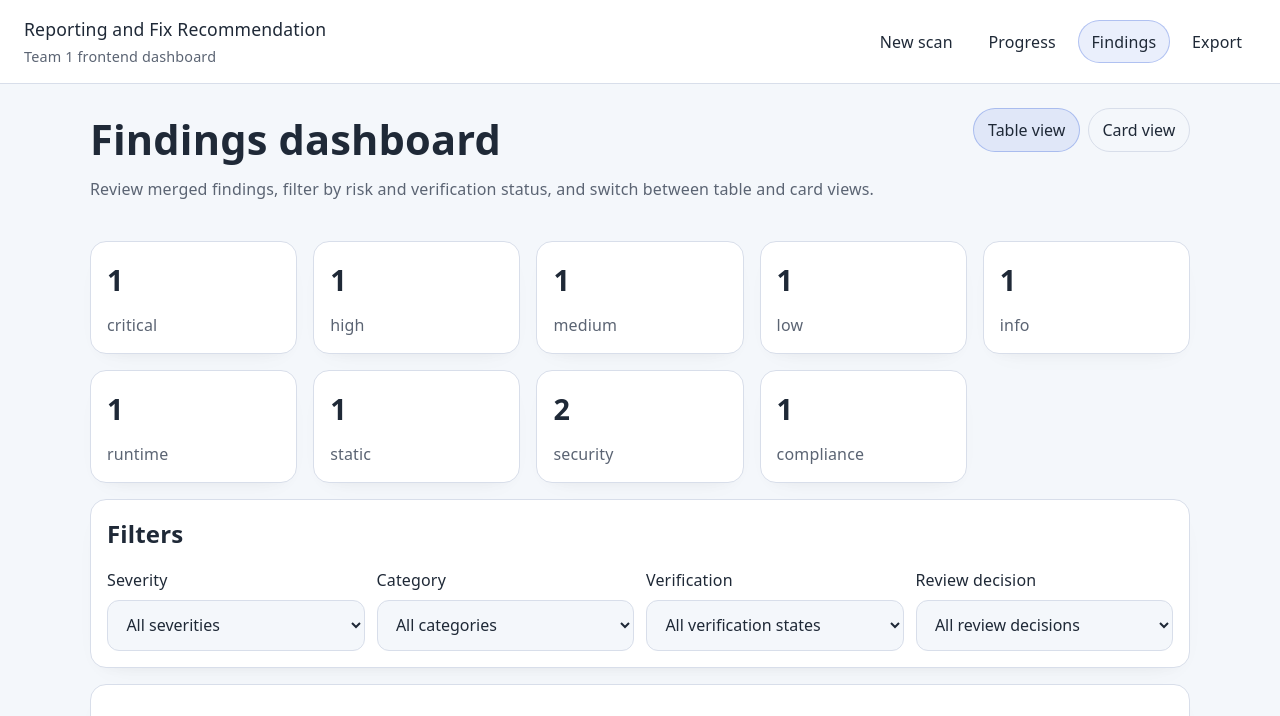
it: FindingsPage › switches between table and card views
What coordinates should you click on to do the following:
click the button "Card view"
I would click on:
 (1139, 130)
Its box is [1088,108,1190,152].
(page scrolled)
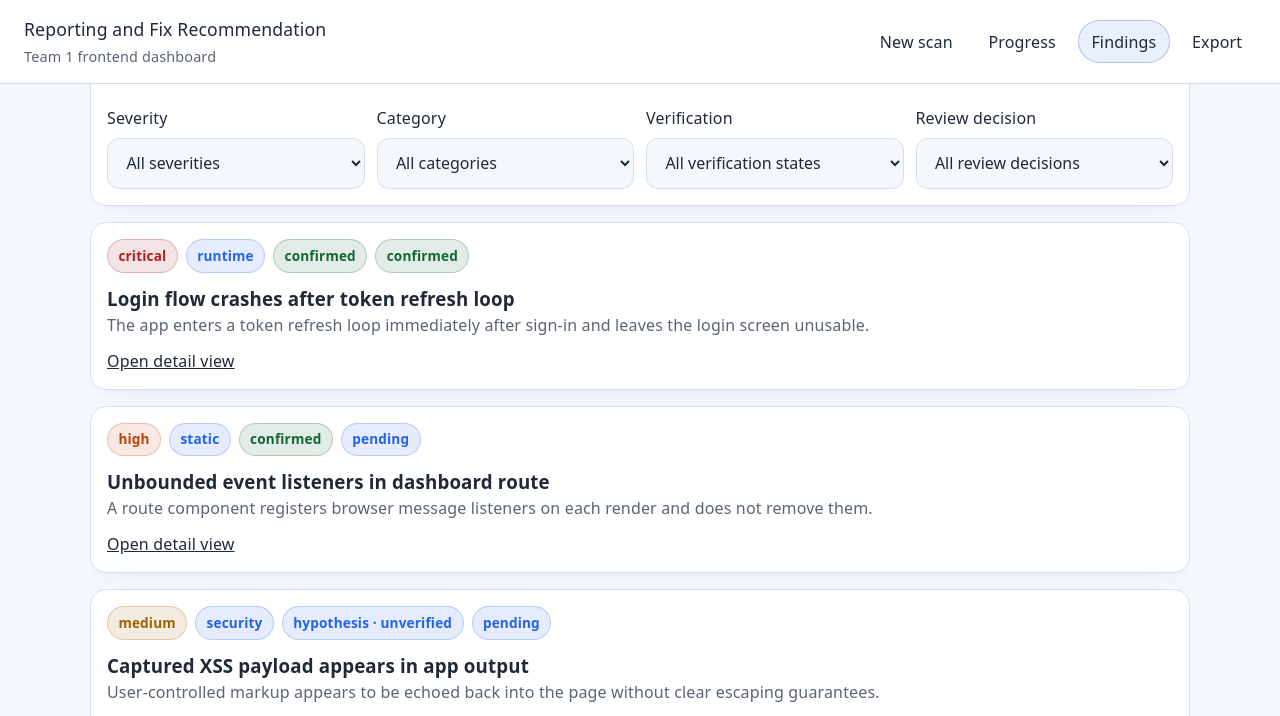
Expected: the 1st link "Open detail view" is shown, [107,349,234,373]
